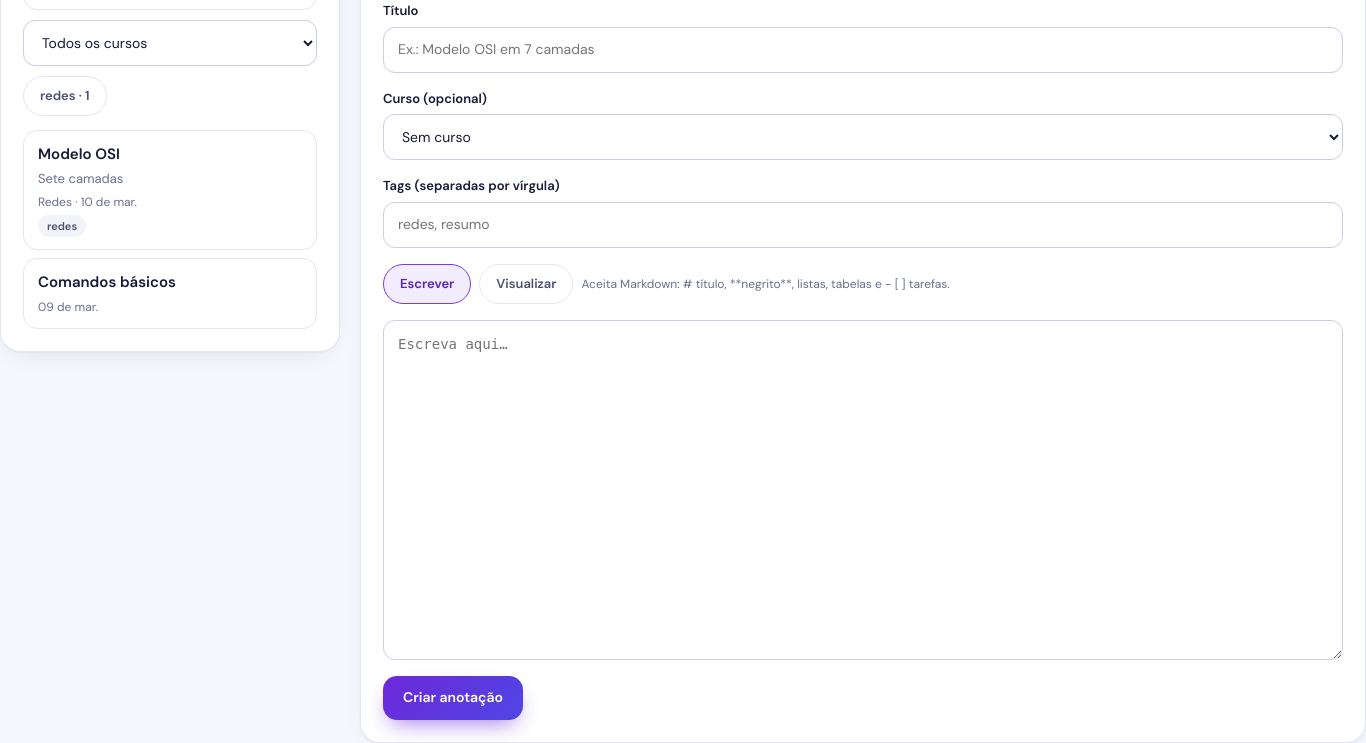
Test: Anotações · nova › anotação vazia: mostra a mensagem da API e continua na tela
(page scrolled)
Click the button "Criar anotação" at (453, 698), box top-left (383, 676), bottom-right (523, 720)
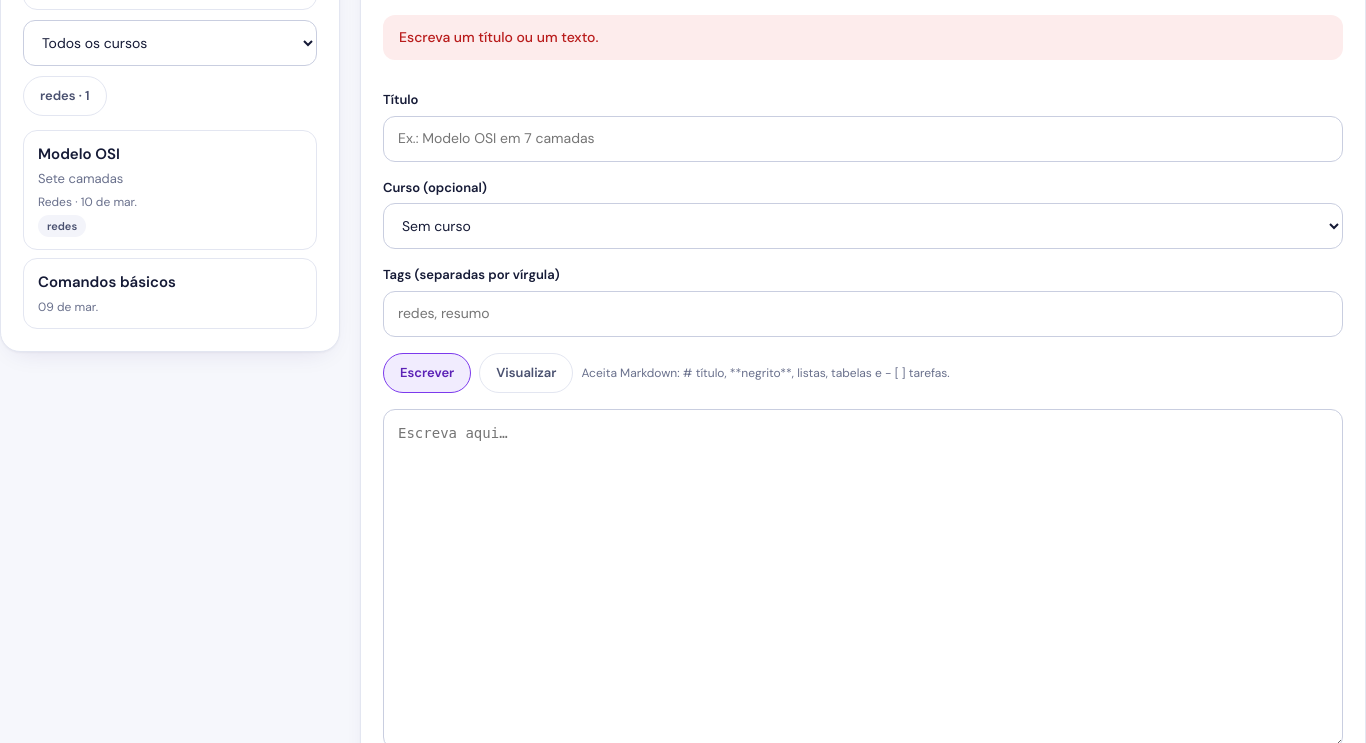
Expected: the message "Escreva um título ou um texto." is shown, top-left (383, 15), bottom-right (1343, 60)
